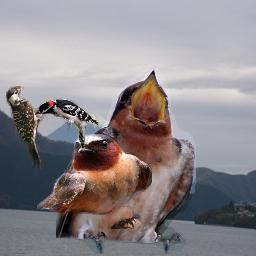Swallow: (56, 69, 196, 254), (37, 134, 152, 229)
Woodpecker: (35, 98, 101, 152), (6, 86, 48, 169)
